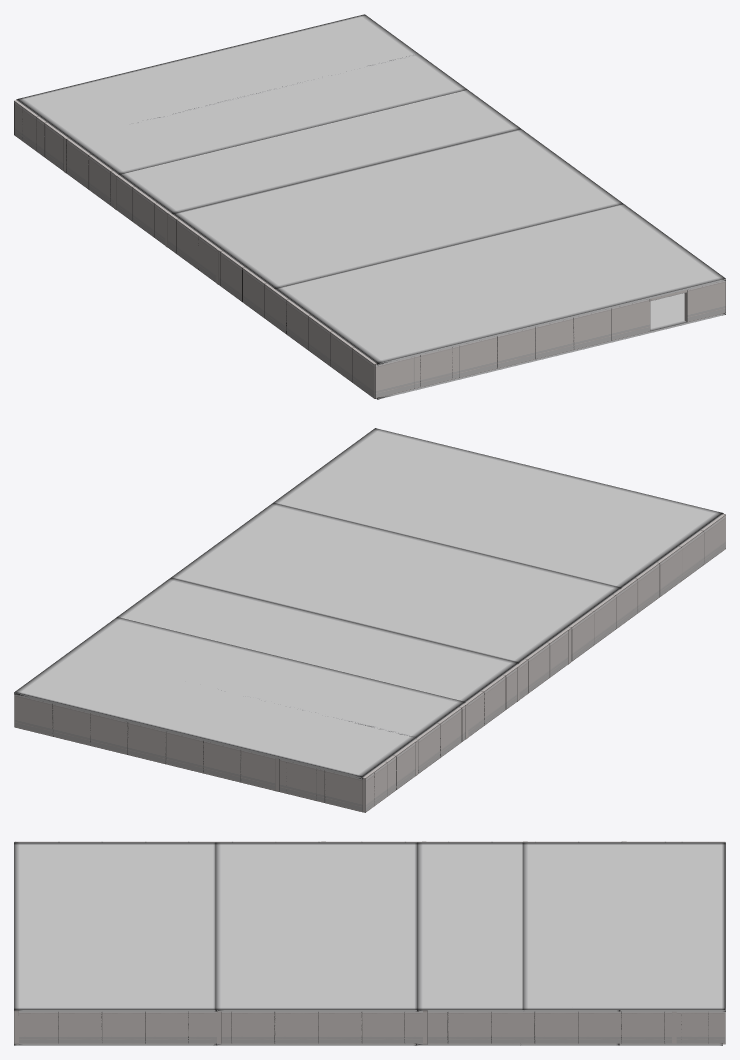
The model's file is Mapa Teste.fbx.
3 views of the same model, one above another, from view 1: azimuth 30°, elevation 25°; view 2: azimuth 150°, elevation 25°; view 3: azimuth 270°, elevation 25° (orthographic).
Visible parts, largest first — view 1: Chão.004, Chão.007, Chão.005, Chão.006, Chão, Parede, Parede.002, Parede.053, Parede.048, Parede.003, Parede.049, Parede.051 (+18 smaller); view 2: Chão.007, Chão.005, Chão.004, Chão.006, Parede.023, Parede.021, Parede.029, Parede.022, Parede.028, Parede.027, Parede.024, Parede.026 (+18 smaller); view 3: Chão.007, Chão.004, Chão.005, Chão.006, Parede.009, Parede.005, Parede.008, Parede.016, Parede.012, Parede.017, Parede.006, Parede.013 (+13 smaller).
Part boxes in pixels (x1,y1,x2,y2): Chão.004: (275, 204, 725, 365); Chão.007: (16, 14, 467, 174); Chão.005: (173, 129, 623, 288); Chão.006: (119, 55, 520, 214); Chão: (376, 293, 725, 399); Parede: (684, 280, 725, 322); Parede.002: (611, 299, 650, 340); Parede.053: (375, 356, 413, 398); Parede.048: (497, 327, 535, 368); Parede.003: (573, 308, 611, 349); Parede.049: (535, 318, 574, 358); Parede.051: (420, 345, 458, 386); Chão.007: (14, 617, 465, 779); Chão.005: (171, 503, 621, 663); Chão.004: (273, 428, 723, 588); Chão.006: (117, 578, 518, 738); Parede.023: (127, 722, 166, 764); Parede.021: (14, 694, 53, 736); Parede.029: (324, 770, 364, 812); Parede.022: (52, 703, 90, 745); Parede.028: (165, 731, 203, 773); Parede.027: (203, 740, 241, 782); Parede.024: (90, 713, 128, 754); Parede.026: (279, 759, 316, 800); Chão.007: (522, 842, 725, 1011); Chão.004: (14, 842, 217, 1011); Chão.005: (215, 842, 418, 1011); Chão.006: (417, 842, 620, 1011); Parede.009: (318, 1011, 362, 1043); Parede.005: (58, 1011, 102, 1043); Parede.008: (274, 1011, 318, 1043); Parede.016: (447, 1011, 491, 1043); Parede.012: (534, 1011, 578, 1043); Parede.017: (491, 1011, 535, 1043); Parede.006: (145, 1011, 188, 1043); Parede.013: (578, 1011, 621, 1043).
Bounding box in the file's own units: 4089 × 401 × 7266.
